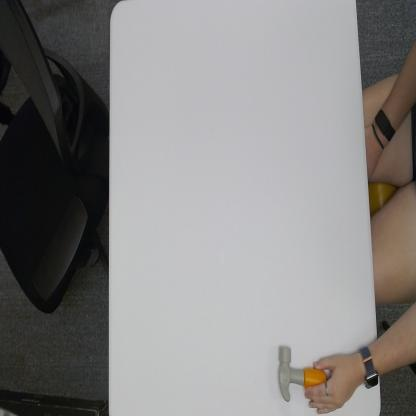Hammer: (278, 342, 328, 403)
Hand: (304, 352, 358, 416)
